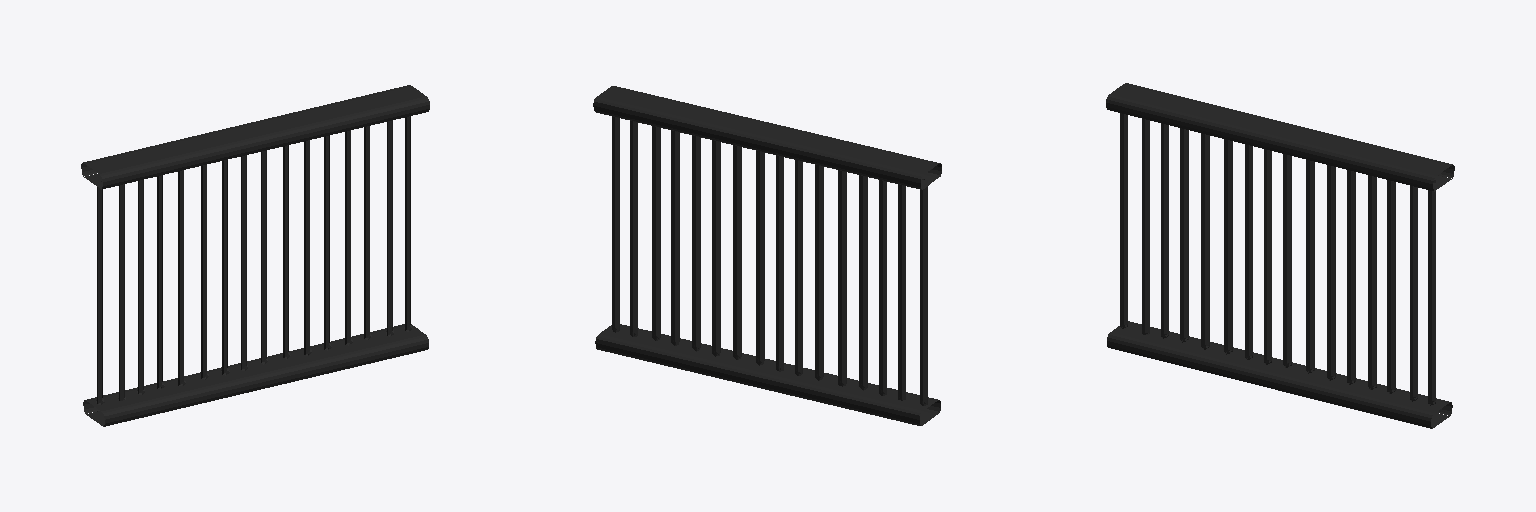
File: ringhiera.obj
The picture shows the model from 3 angles: view 1: azimuth 30°, elevation 25°; view 2: azimuth 150°, elevation 25°; view 3: azimuth 330°, elevation 25°; orthographic projection.
Parts seen in each view (by area): view 1: Extruded_Object_3_1, Extruded_Object_3, Extruded_Object_4_1, Extruded_Object_4, Extruded_Object_4_4, Extruded_Object_4_14, Extruded_Object_4_6, Extruded_Object_4_7, Extruded_Object_4_10, Extruded_Object_4_15, Extruded_Object_4_2, Extruded_Object_4_5 (+6 smaller); view 2: Extruded_Object_3_1, Extruded_Object_3, Extruded_Object_4_4, Extruded_Object_4_10, Extruded_Object_4_5, Extruded_Object_4_11, Extruded_Object_4_12, Extruded_Object_4_3, Extruded_Object_4_13, Extruded_Object_4_9, Extruded_Object_4_8, Extruded_Object_4_1 (+6 smaller); view 3: Extruded_Object_3_1, Extruded_Object_3, Extruded_Object_4_4, Extruded_Object_4_10, Extruded_Object_4_5, Extruded_Object_4_12, Extruded_Object_4_11, Extruded_Object_4_3, Extruded_Object_4_8, Extruded_Object_4_13, Extruded_Object_4_9, Extruded_Object_4 (+6 smaller).
Part boxes in pixels (left/top/right/bottom): Extruded_Object_3_1: left=81, top=85, right=429, bottom=189; Extruded_Object_3: left=83, top=324, right=428, bottom=426; Extruded_Object_4_1: left=96, top=181, right=104, bottom=404; Extruded_Object_4: left=118, top=184, right=125, bottom=400; Extruded_Object_4_4: left=178, top=170, right=185, bottom=385; Extruded_Object_4_14: left=386, top=120, right=393, bottom=336; Extruded_Object_4_6: left=221, top=160, right=229, bottom=375; Extruded_Object_4_7: left=240, top=155, right=247, bottom=370; Extruded_Object_4_10: left=304, top=140, right=311, bottom=355; Extruded_Object_4_15: left=404, top=116, right=412, bottom=331; Extruded_Object_4_2: left=137, top=180, right=144, bottom=394; Extruded_Object_4_5: left=201, top=165, right=208, bottom=379; Extruded_Object_3_1: left=593, top=86, right=941, bottom=189; Extruded_Object_3: left=595, top=324, right=940, bottom=425; Extruded_Object_4_4: left=838, top=170, right=846, bottom=386; Extruded_Object_4_10: left=712, top=140, right=720, bottom=356; Extruded_Object_4_5: left=815, top=165, right=823, bottom=380; Extruded_Object_4_11: left=692, top=135, right=700, bottom=351; Extruded_Object_4_12: left=671, top=130, right=679, bottom=345; Extruded_Object_4_3: left=859, top=175, right=867, bottom=390; Extruded_Object_4_13: left=652, top=126, right=660, bottom=340; Extruded_Object_4_9: left=733, top=145, right=741, bottom=359; Extruded_Object_4_8: left=756, top=151, right=764, bottom=365; Extruded_Object_4_1: left=920, top=179, right=927, bottom=405; Extruded_Object_3_1: left=1106, top=83, right=1454, bottom=191; Extruded_Object_3: left=1107, top=321, right=1452, bottom=428; Extruded_Object_4_4: left=1201, top=133, right=1209, bottom=349; Extruded_Object_4_10: left=1327, top=165, right=1335, bottom=380; Extruded_Object_4_5: left=1224, top=139, right=1232, bottom=354; Extruded_Object_4_12: left=1368, top=175, right=1376, bottom=389; Extruded_Object_4_11: left=1347, top=170, right=1355, bottom=384; Extruded_Object_4_3: left=1180, top=128, right=1188, bottom=342; Extruded_Object_4_8: left=1283, top=154, right=1291, bottom=367; Extruded_Object_4_13: left=1387, top=180, right=1395, bottom=393; Extruded_Object_4_9: left=1306, top=160, right=1314, bottom=373; Extruded_Object_4: left=1142, top=119, right=1149, bottom=334.
Bounding box in the file's own units: 6.75 × 5 × 0.7862.